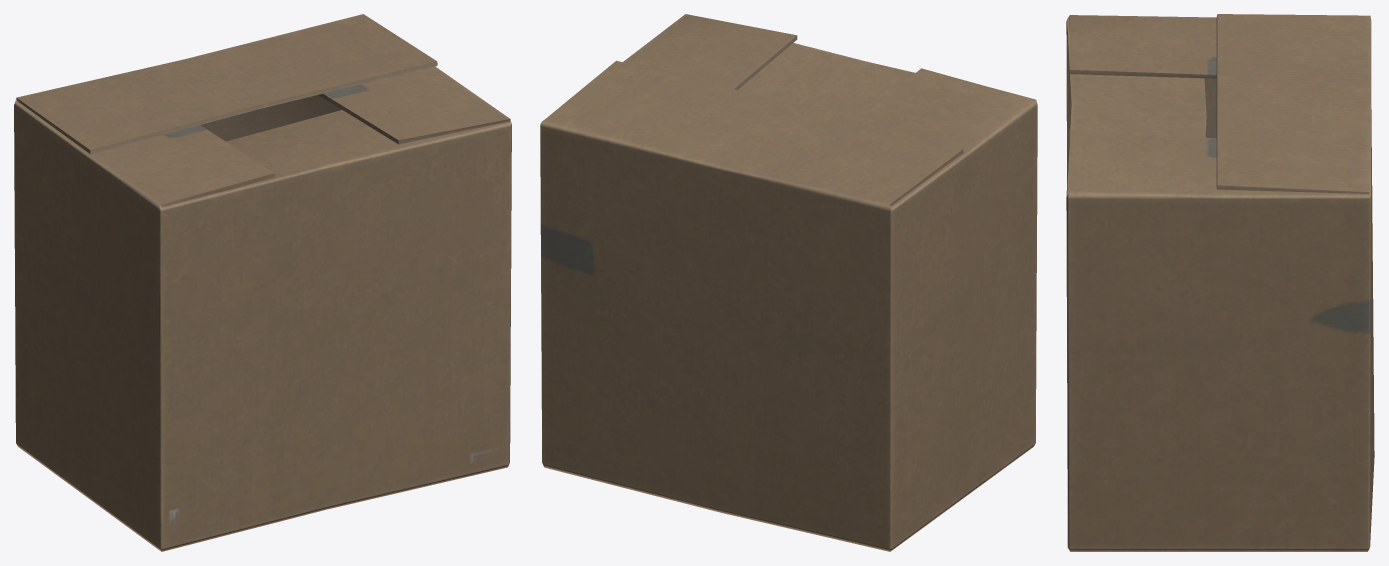
File: SM_Ammo_Cardboard_Boxes_01c.glb
3 views of the same model, side by side, from view 1: azimuth 30°, elevation 25°; view 2: azimuth 150°, elevation 25°; view 3: azimuth 270°, elevation 25° (orthographic). The views are drawn at different scales.
Visible parts, largest first — view 1: SM_Ammo_Cardboard_Boxes_01c; view 2: SM_Ammo_Cardboard_Boxes_01c; view 3: SM_Ammo_Cardboard_Boxes_01c.
Part boxes in pixels (x1=…): SM_Ammo_Cardboard_Boxes_01c: x1=14, y1=14, x2=511, y2=551; SM_Ammo_Cardboard_Boxes_01c: x1=540, y1=14, x2=1037, y2=551; SM_Ammo_Cardboard_Boxes_01c: x1=1066, y1=14, x2=1374, y2=551.
Size of the model in its own units: 0.5757 by 0.5517 by 0.4199.
Materials: 1 (1 with a texture image).
